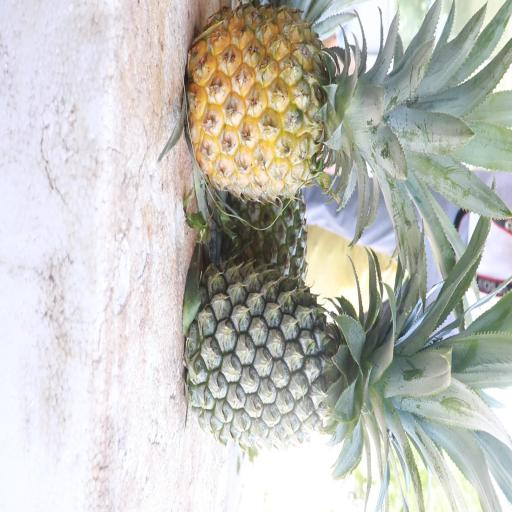Pineapple - v8 v1: (181, 0, 432, 209)
